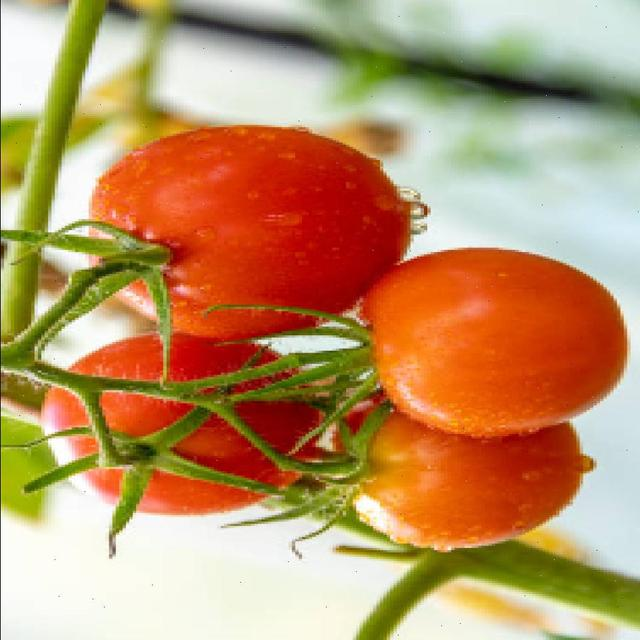Healthy Fruit: (113, 90, 328, 321)
